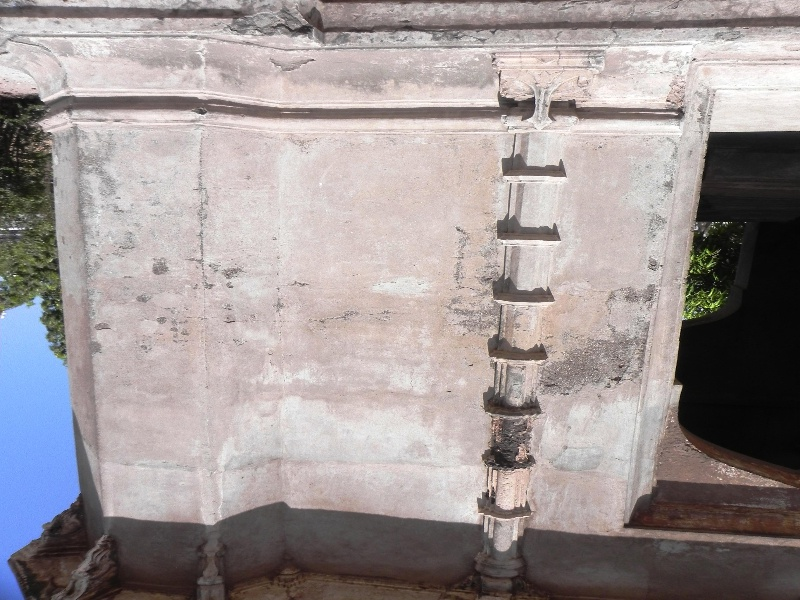Spalling: (549, 324, 651, 399), (484, 402, 543, 474)
